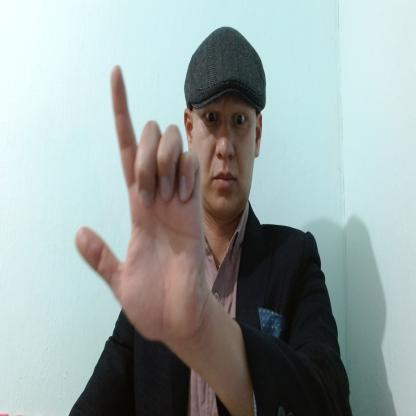L: (76, 66, 208, 340)
